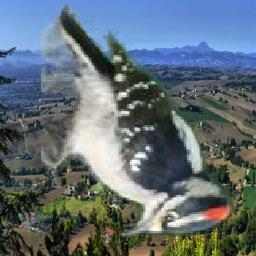Woodpecker: (42, 5, 237, 244)
